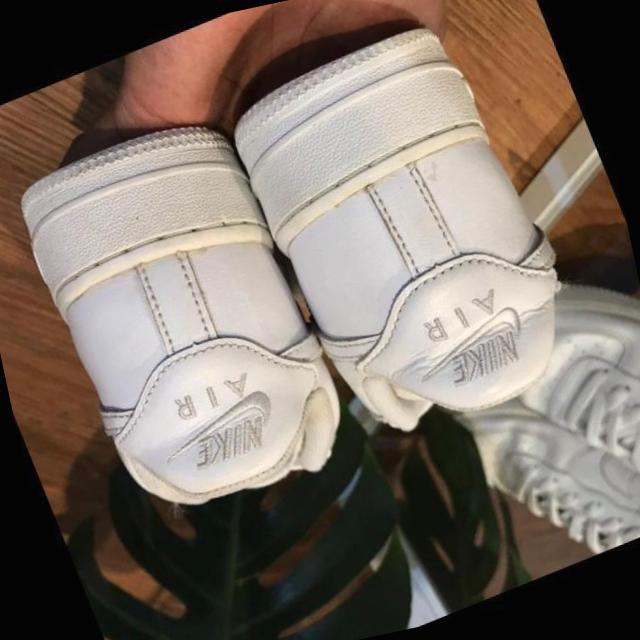nike_fake_airforce: (260, 135, 609, 470), (46, 224, 375, 546)
